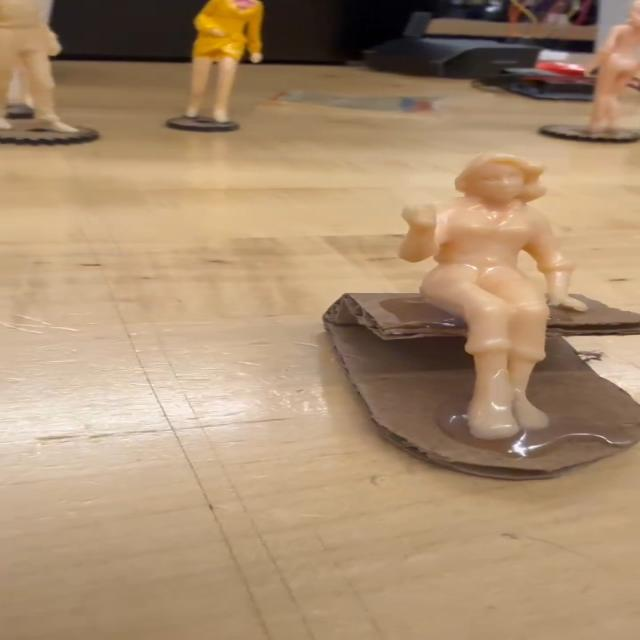Unauthorized: (398, 137, 598, 471)
